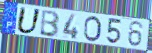4: (61, 13, 81, 41)
5: (105, 18, 124, 46)
6: (127, 20, 145, 48)
B: (39, 10, 61, 39)
O: (83, 15, 103, 43)
U: (15, 6, 43, 35)
